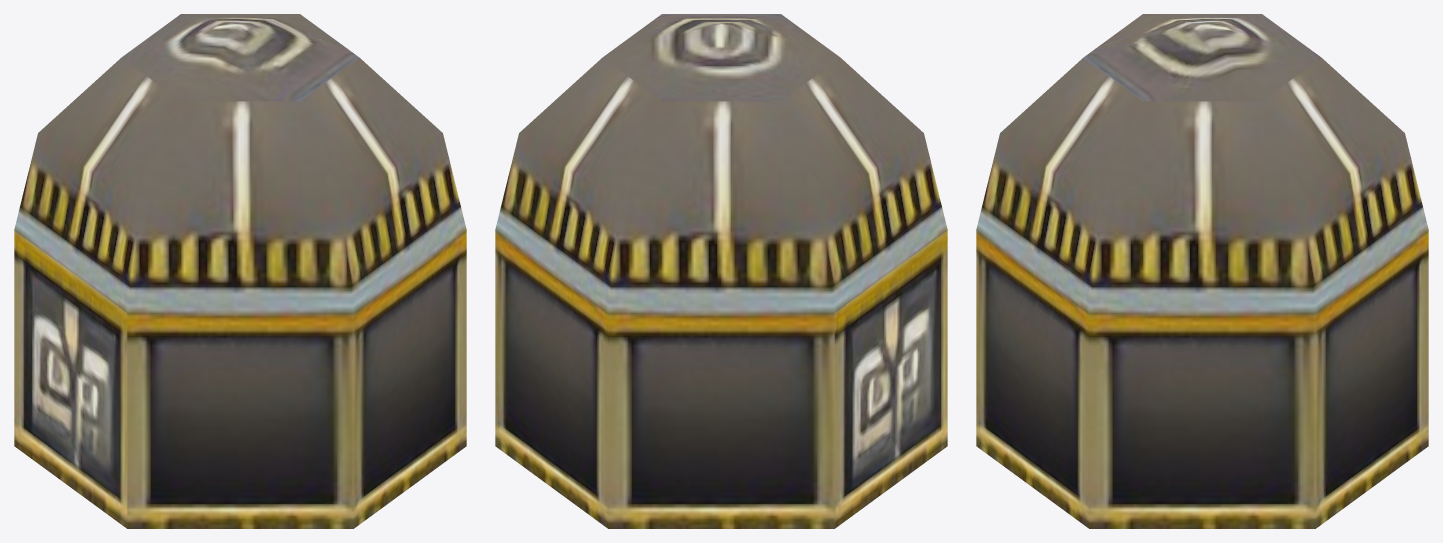
Rendered from hazmat_hdtex.glb.
3 renders of one model, left to right at view 1: azimuth 30°, elevation 25°; view 2: azimuth 150°, elevation 25°; view 3: azimuth 270°, elevation 25°, orthographic.
Parts seen in each view (by area): view 1: hazmat; view 2: hazmat; view 3: hazmat.
Boxes of the visible parts, x1,y1,x2,y2 form: hazmat: (14, 14, 466, 528); hazmat: (495, 14, 947, 528); hazmat: (976, 14, 1428, 528).
Size of the model in its own units: 4.94 by 5.85 by 5.7.
Materials: 1 (1 with a texture image).
